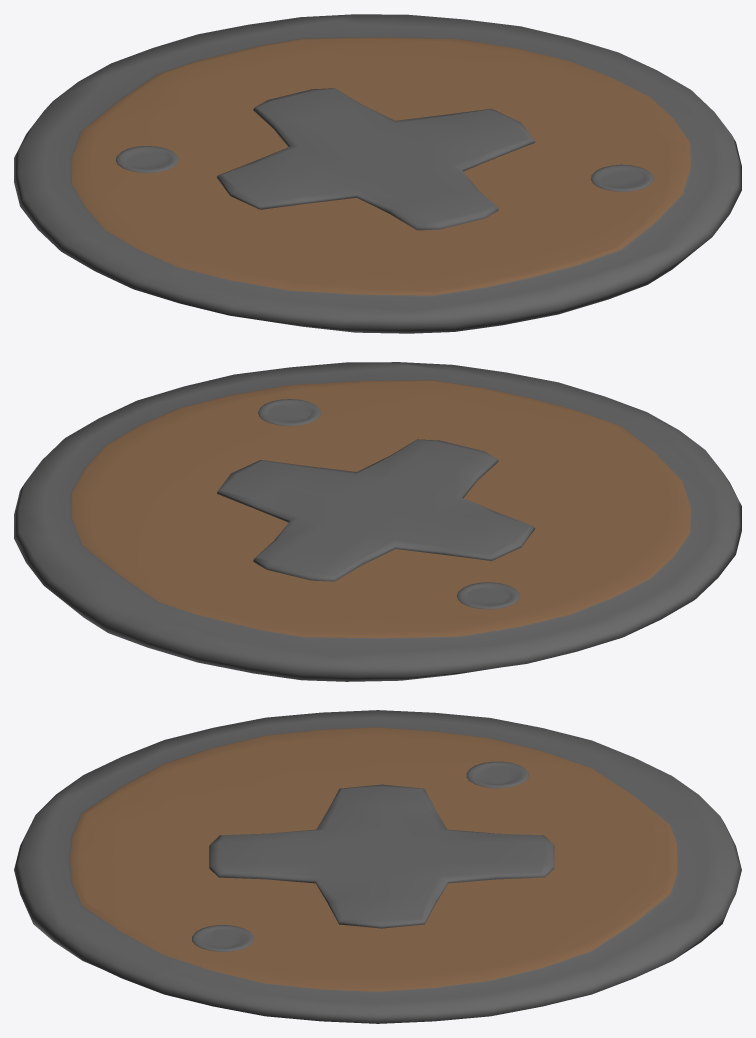
File: Shield_00.fbx
3 views of the same model, one above another, from view 1: azimuth 30°, elevation 25°; view 2: azimuth 150°, elevation 25°; view 3: azimuth 270°, elevation 25° (orthographic).
Parts seen in each view (by area): view 1: Shield_00; view 2: Shield_00; view 3: Shield_00.
Part boxes in pixels (x1=…): Shield_00: x1=14, y1=14, x2=741, y2=333; Shield_00: x1=14, y1=362, x2=741, y2=681; Shield_00: x1=14, y1=710, x2=741, y2=1023.
Size of the model in its own units: 34.98 by 1.42 by 34.98.
